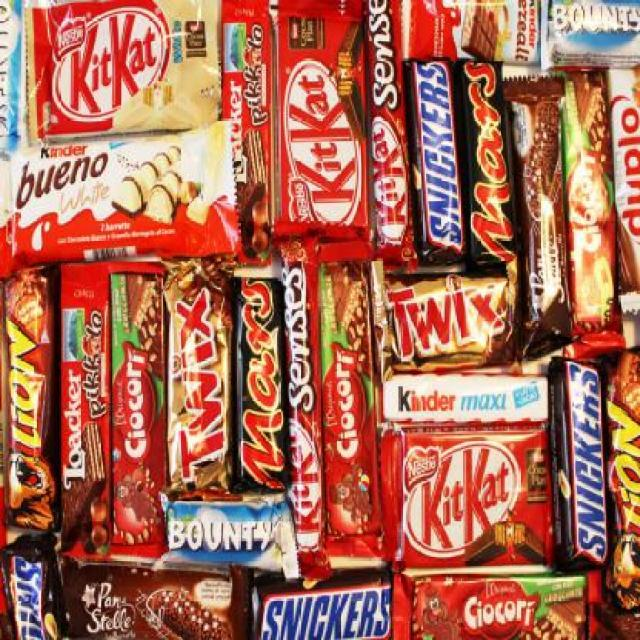Chocolate bar: (3, 135, 242, 263), (25, 3, 228, 134), (376, 424, 555, 566), (273, 2, 372, 242), (312, 255, 386, 574), (554, 67, 628, 346), (506, 70, 576, 350), (364, 252, 524, 368), (52, 258, 110, 560), (274, 240, 326, 566), (110, 260, 164, 560), (386, 562, 588, 640), (218, 1, 280, 254), (160, 260, 228, 488), (3, 266, 62, 528), (228, 270, 290, 502), (404, 55, 472, 254), (548, 346, 610, 564), (453, 60, 521, 254), (362, 3, 415, 251), (159, 496, 303, 569), (398, 1, 544, 70), (604, 350, 640, 628), (251, 570, 391, 638), (607, 67, 640, 316), (540, 1, 638, 67), (1, 540, 56, 640)
